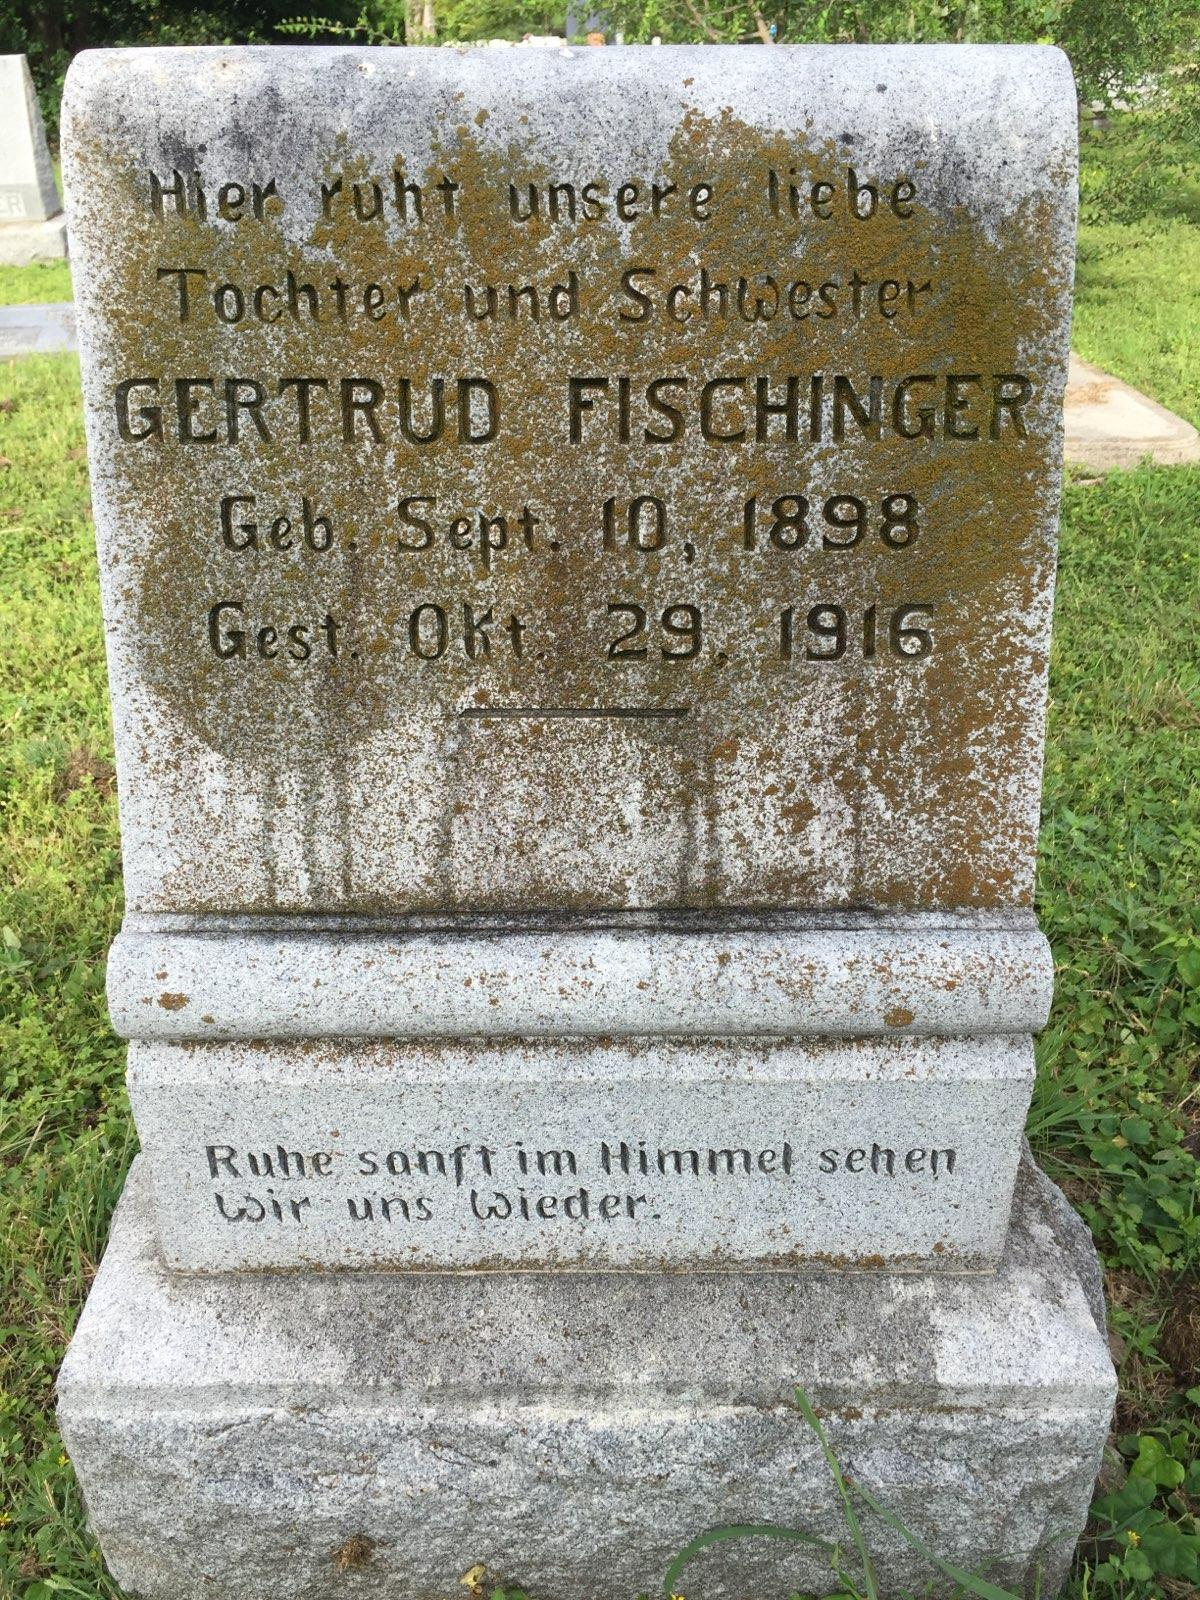upright: (63, 44, 1117, 1596)
